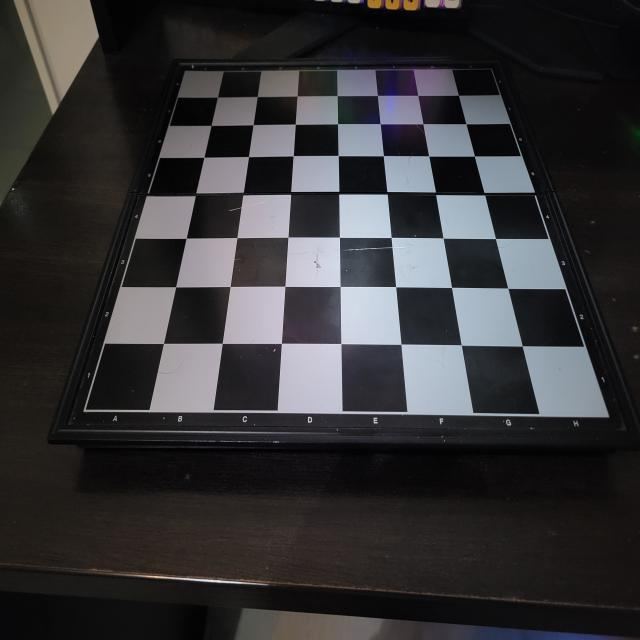chess-board: (78, 61, 626, 438)
